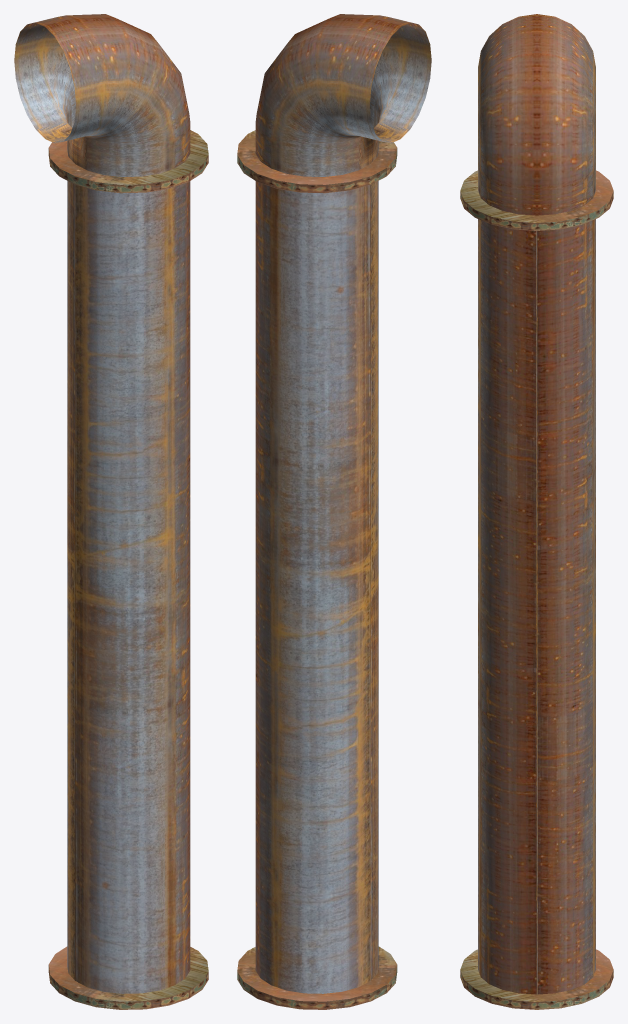
Rendered from pipe_01.fbx.
3 views of the same model, side by side, from view 1: azimuth 30°, elevation 25°; view 2: azimuth 150°, elevation 25°; view 3: azimuth 270°, elevation 25° (orthographic). The views are drawn at different scales.
Parts seen in each view (by area): view 1: pipe_01; view 2: pipe_01; view 3: pipe_01.
Boxes of the visible parts, box(x1,y1,x2,y2) form: pipe_01: box(14, 14, 208, 1009); pipe_01: box(237, 14, 431, 1009); pipe_01: box(460, 14, 613, 1009).
Size of the model in its own units: 0.9915 by 6 by 0.9015.
